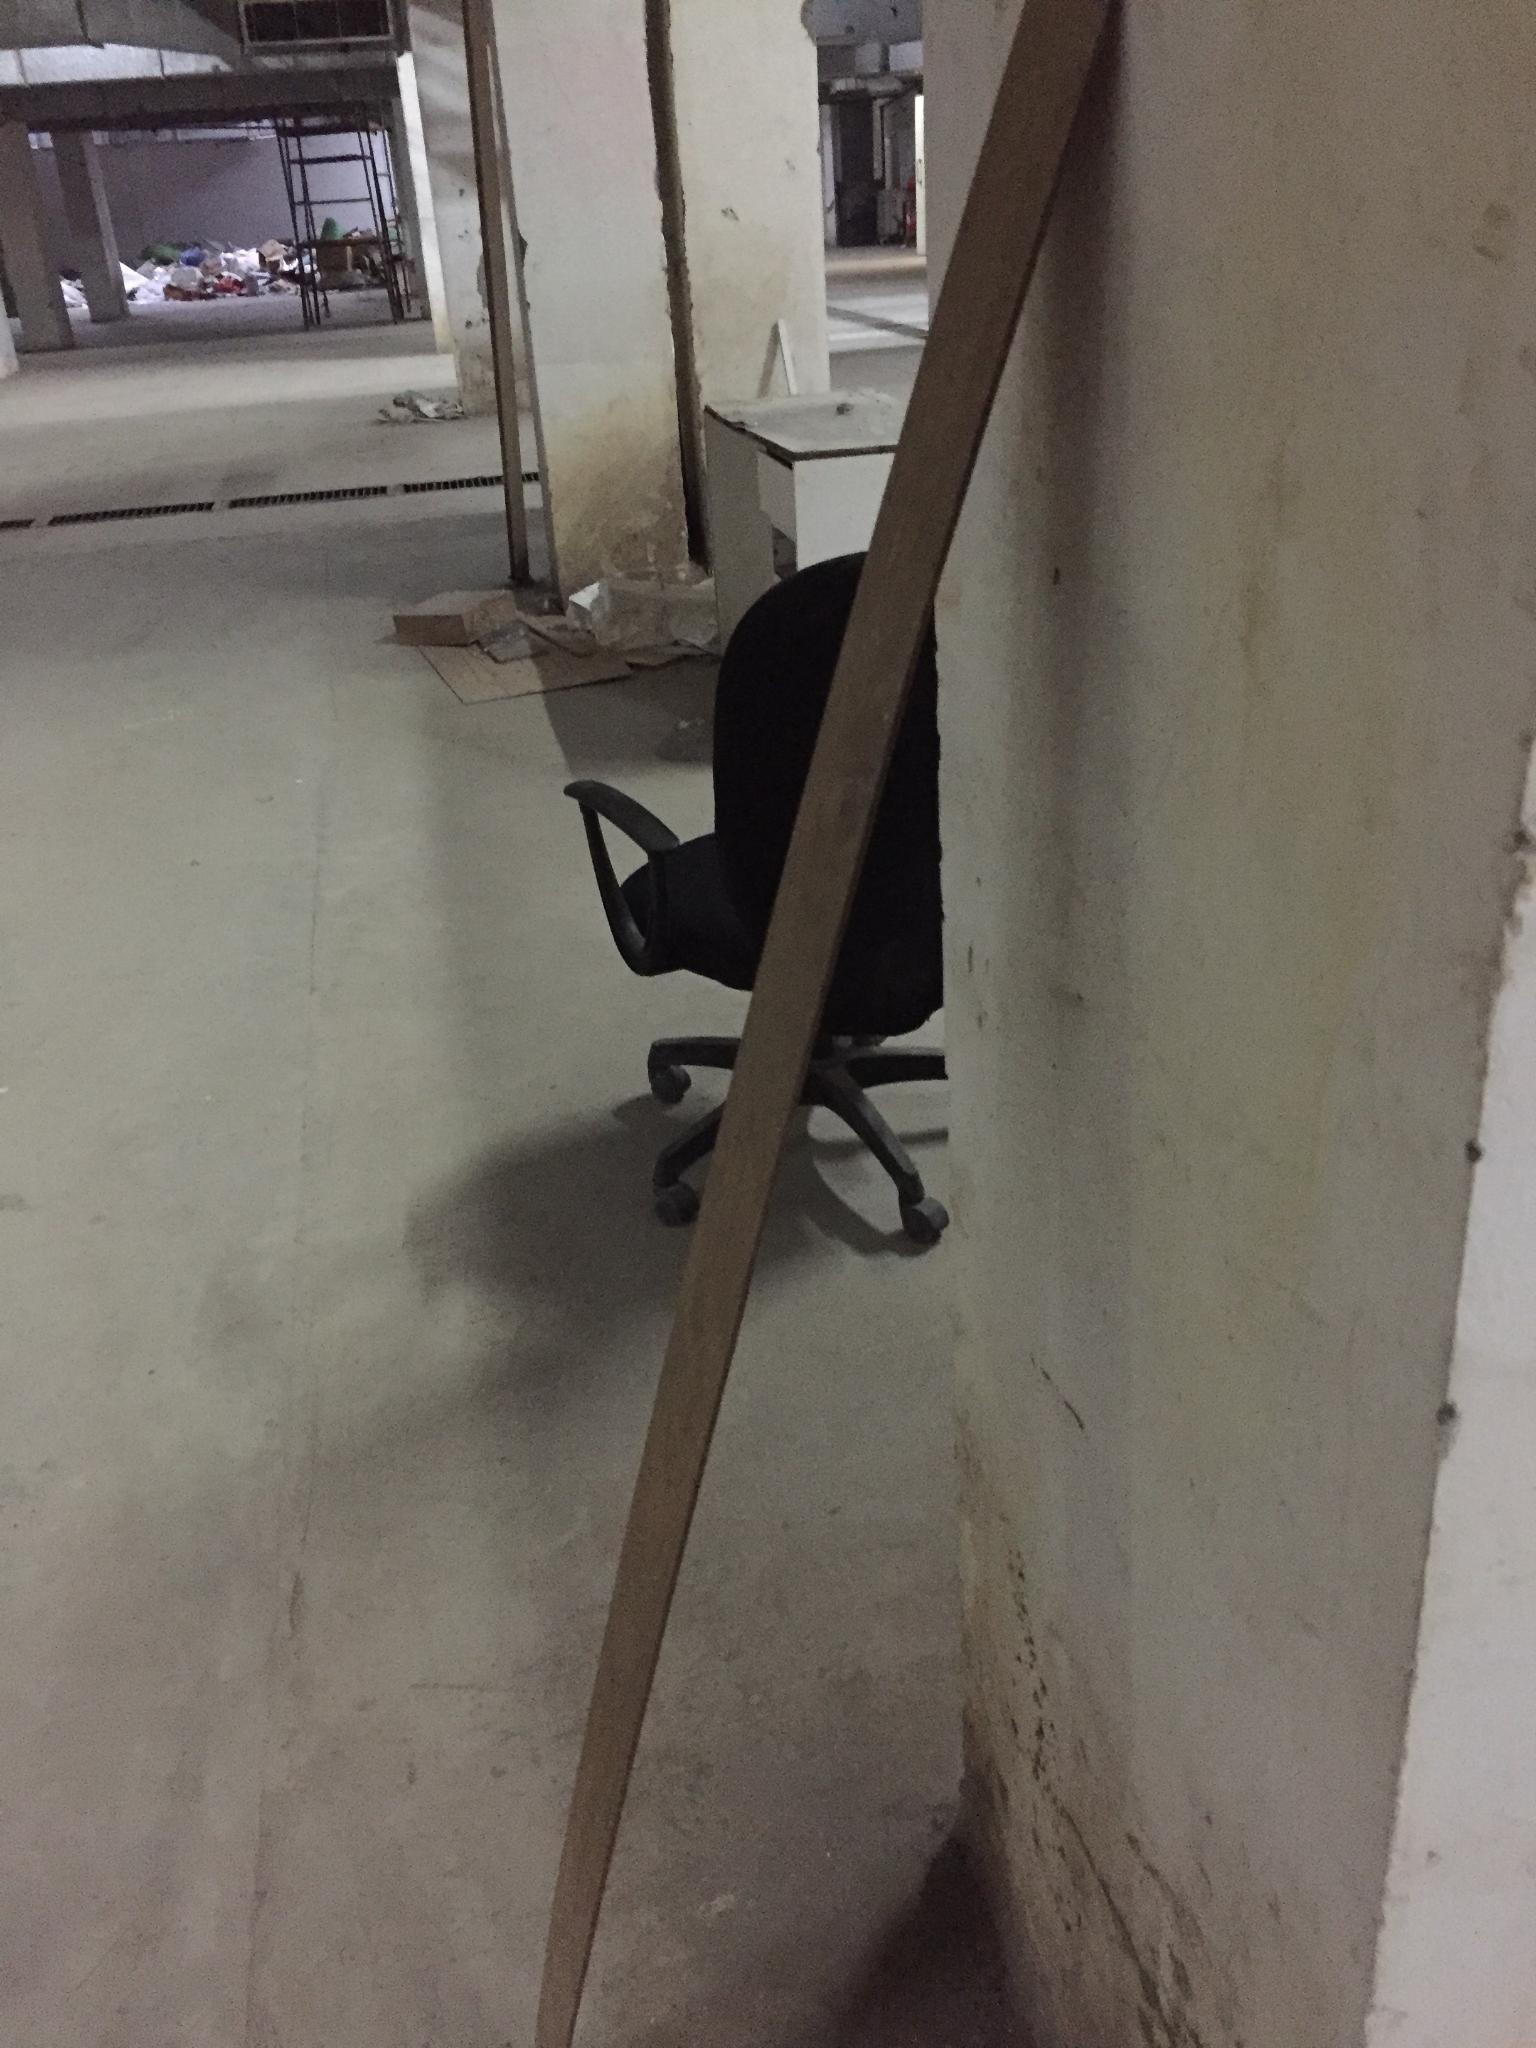chair: (563, 550, 949, 1247)
